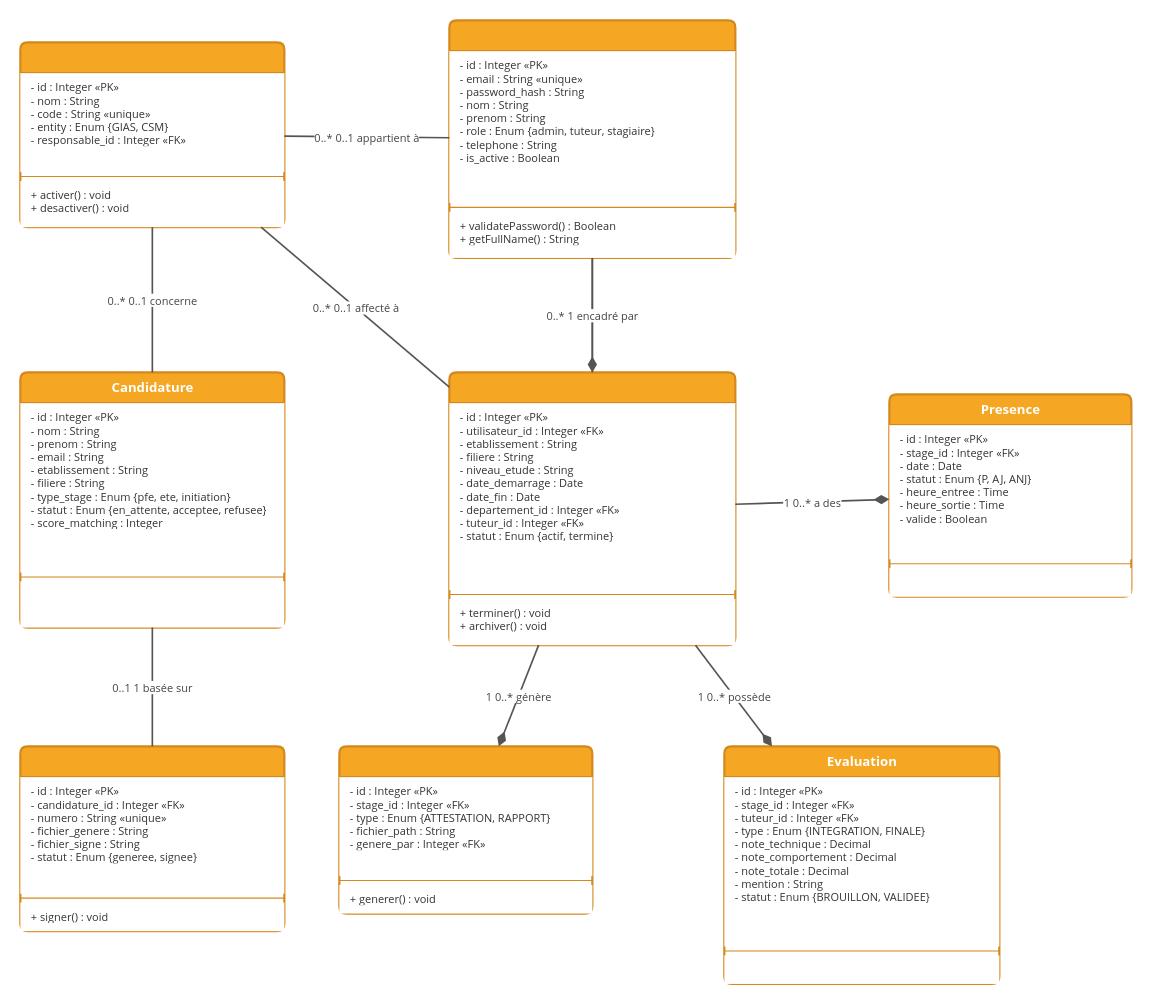
Image size: 1151x1005. Some labels were removed from this diagram. Here are the shapes that lost their labels. From the top down, the box of each, then its label:
(19, 41, 285, 228): Departement
(448, 19, 736, 258): Utilisateur
(448, 371, 736, 646): Stagiaire
(889, 568, 1131, 596): + valider(userId) : void
(20, 581, 284, 627): + accepter() : void + refuser() : void
(19, 745, 285, 932): Convention
(338, 745, 593, 914): Document
(724, 955, 999, 983): + calculerNote() : void
